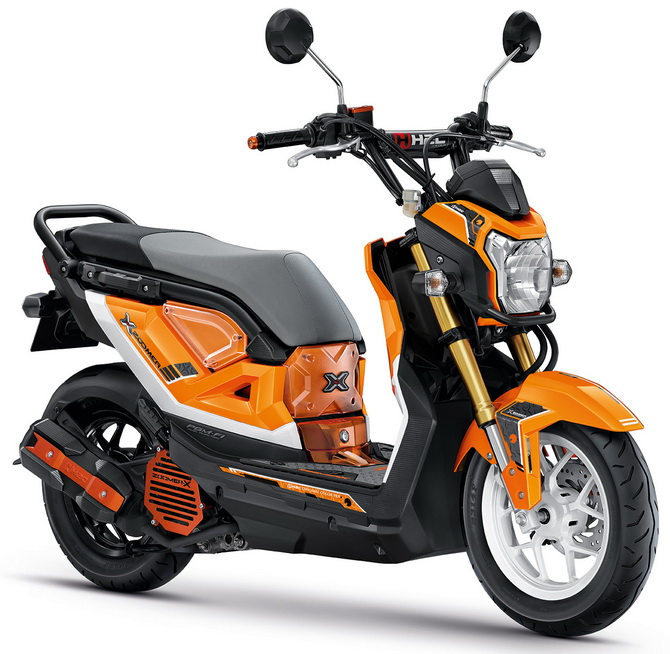motorcycle: (26, 94, 656, 635)
